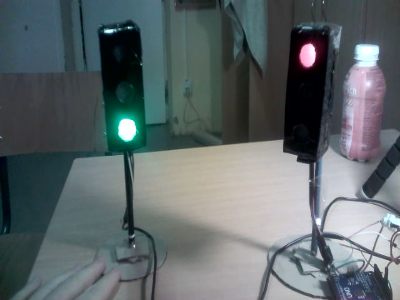trafficlight_green: (104, 27, 144, 147)
trafficlight_red: (287, 28, 330, 153)
